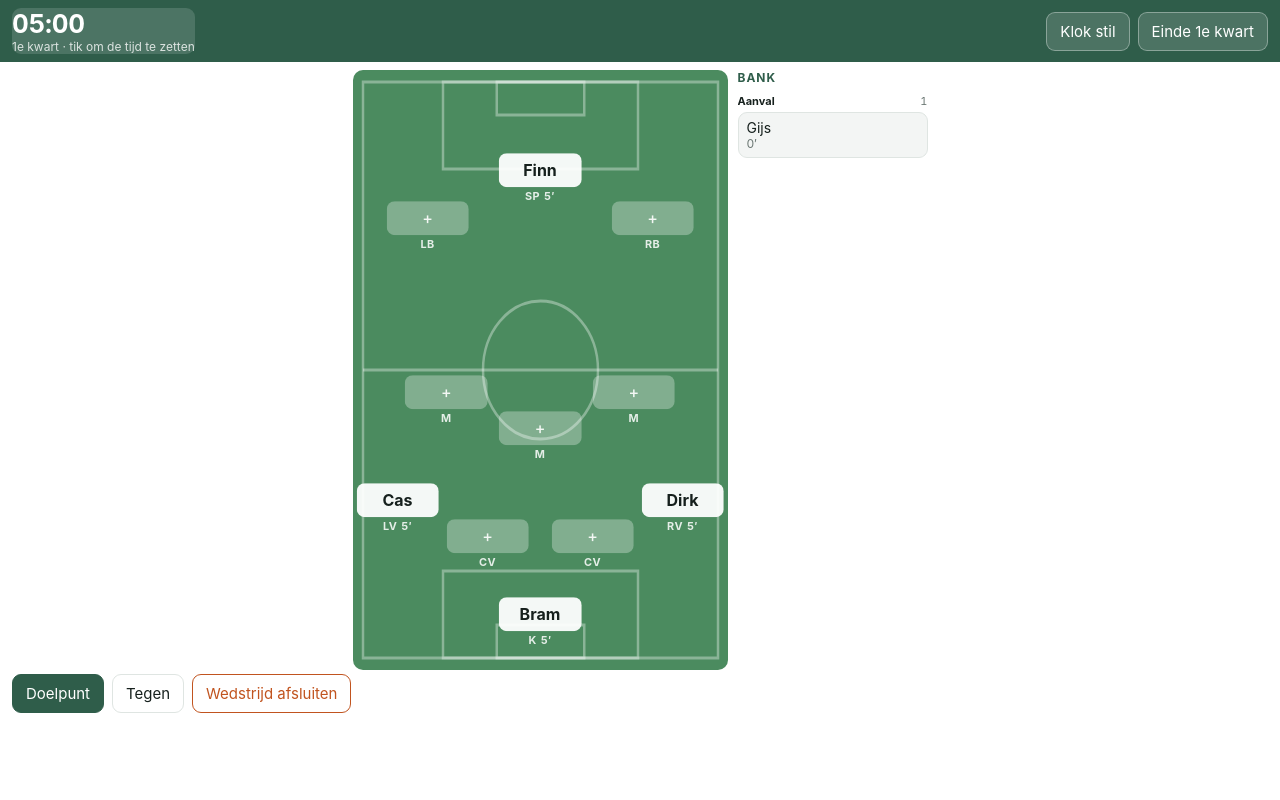
Test case: het wedstrijdscherm tijdens een wedstrijd › houdt het bijstellen van de klok verborgen tot je erop tikt
Step 1. Click the button with class "kloktik" → (103, 31), box [12, 8, 195, 54]
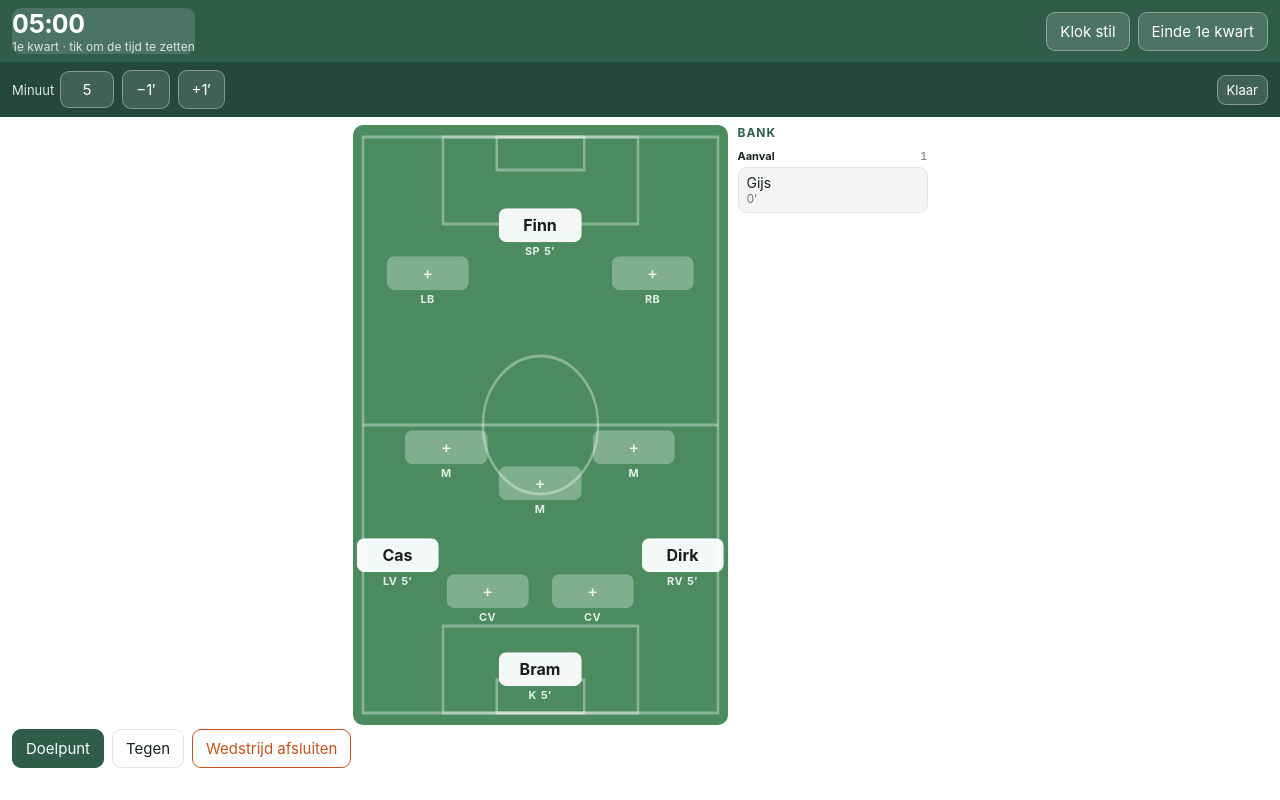
Now the element with class "klokzetrij" is shown, box [0, 62, 1279, 117]
